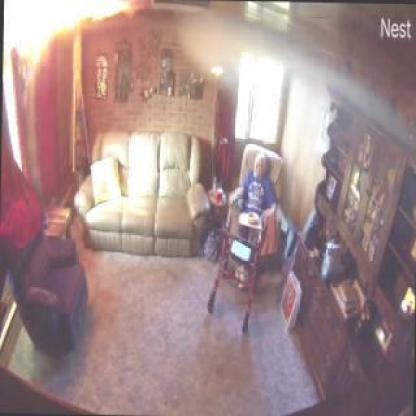Fire: (1, 0, 144, 96)
